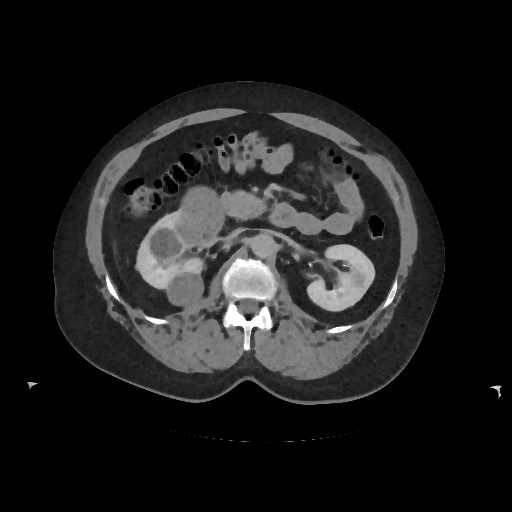Lesion: (174, 182, 227, 252)
